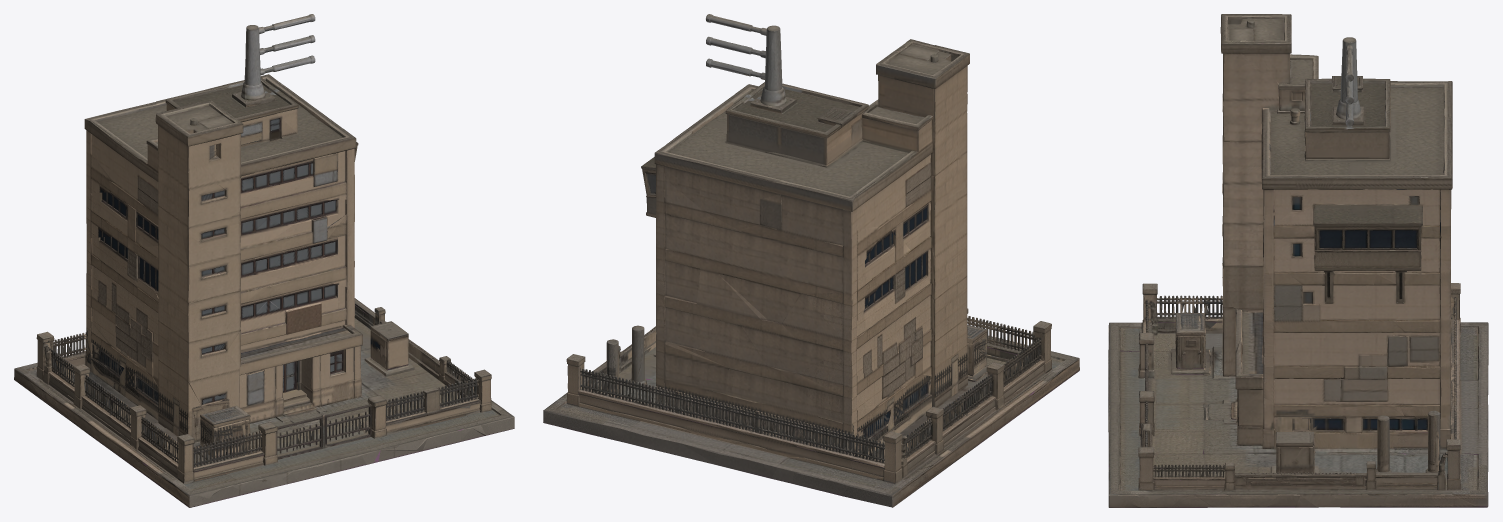
The model's file is building_pirate_radio.glb.
The picture shows the model from 3 angles, left to right: view 1: azimuth 30°, elevation 25°; view 2: azimuth 150°, elevation 25°; view 3: azimuth 270°, elevation 25°; orthographic projection. The views are drawn at different scales.
Parts seen in each view (by area): view 1: output_unwrapped; view 2: output_unwrapped; view 3: output_unwrapped.
Boxes of the visible parts, left/top/right/bottom form: output_unwrapped: left=14, top=14, right=514, bottom=507; output_unwrapped: left=543, top=14, right=1079, bottom=507; output_unwrapped: left=1108, top=14, right=1488, bottom=507.
Bounding box in the file's own units: 1.91 × 2 × 1.78.
1 material, 1 textured.
